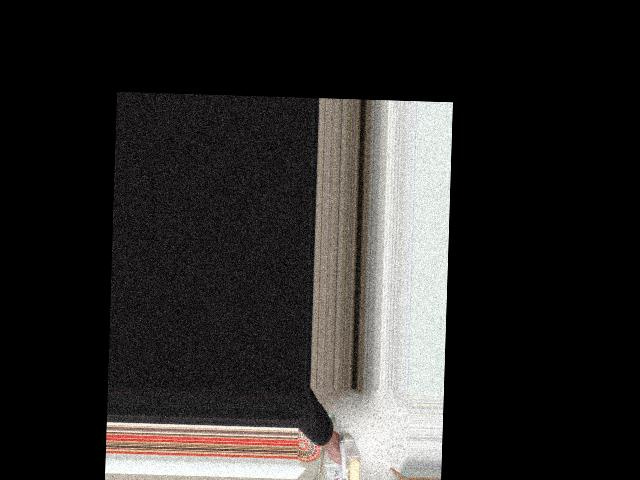cheese: (325, 435, 368, 480)
